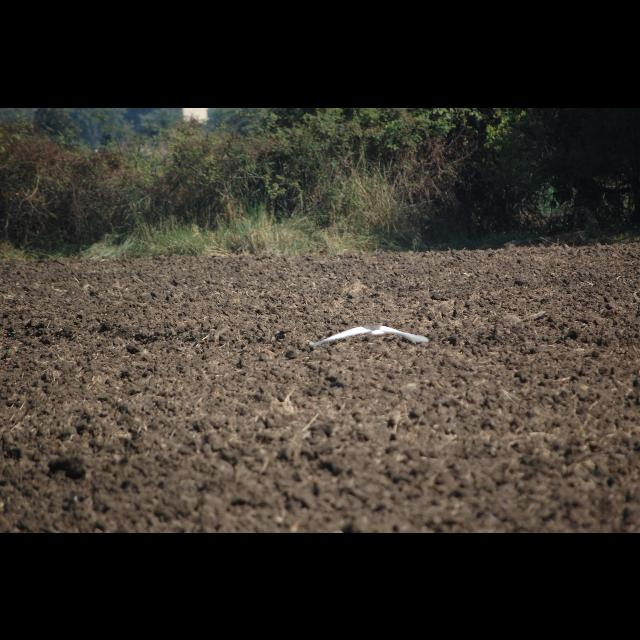egret: (304, 319, 438, 355)
